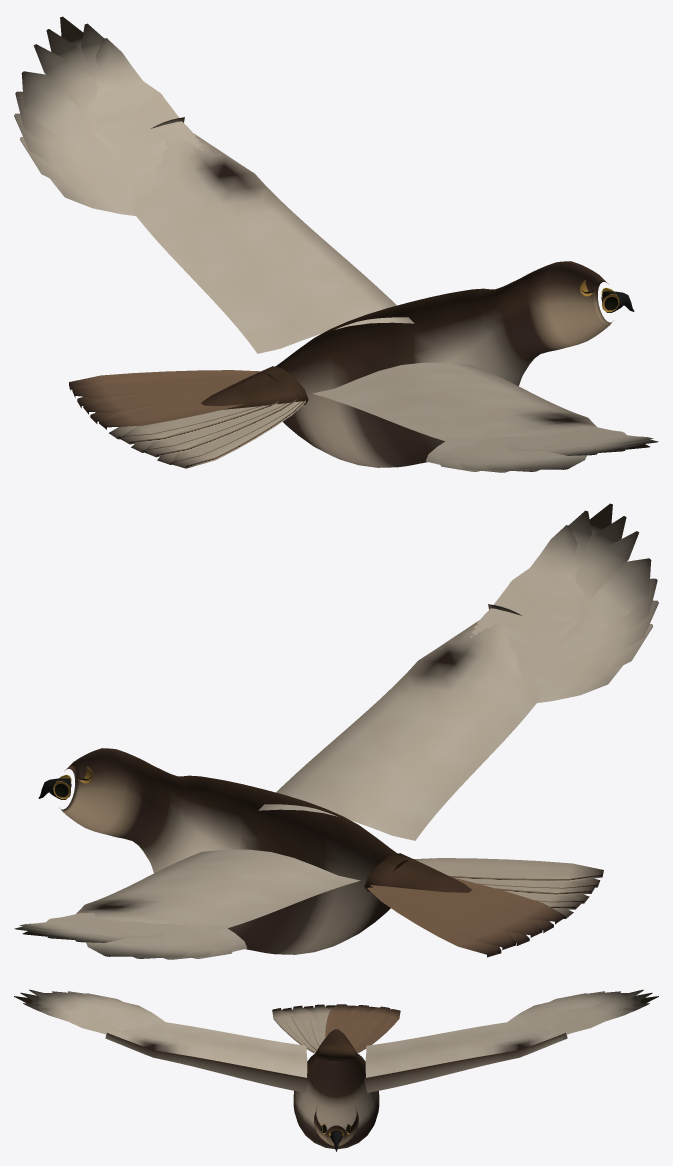
File: SM_Bird_buzzard_glide.glb
The picture shows the model from 3 angles, top to bottom: view 1: azimuth 30°, elevation 25°; view 2: azimuth 150°, elevation 25°; view 3: azimuth 270°, elevation 25°; orthographic projection. The views are drawn at different scales.
Parts seen in each view (by area): view 1: SM_Bird_buzzard_glide; view 2: SM_Bird_buzzard_glide; view 3: SM_Bird_buzzard_glide.
Part boxes in pixels (x1,y1,x2,y2): SM_Bird_buzzard_glide: (14,16,658,472); SM_Bird_buzzard_glide: (14,503,658,959); SM_Bird_buzzard_glide: (14,989,658,1151).
Bounding box in the file's own units: 0.5872 × 0.2574 × 1.14.
